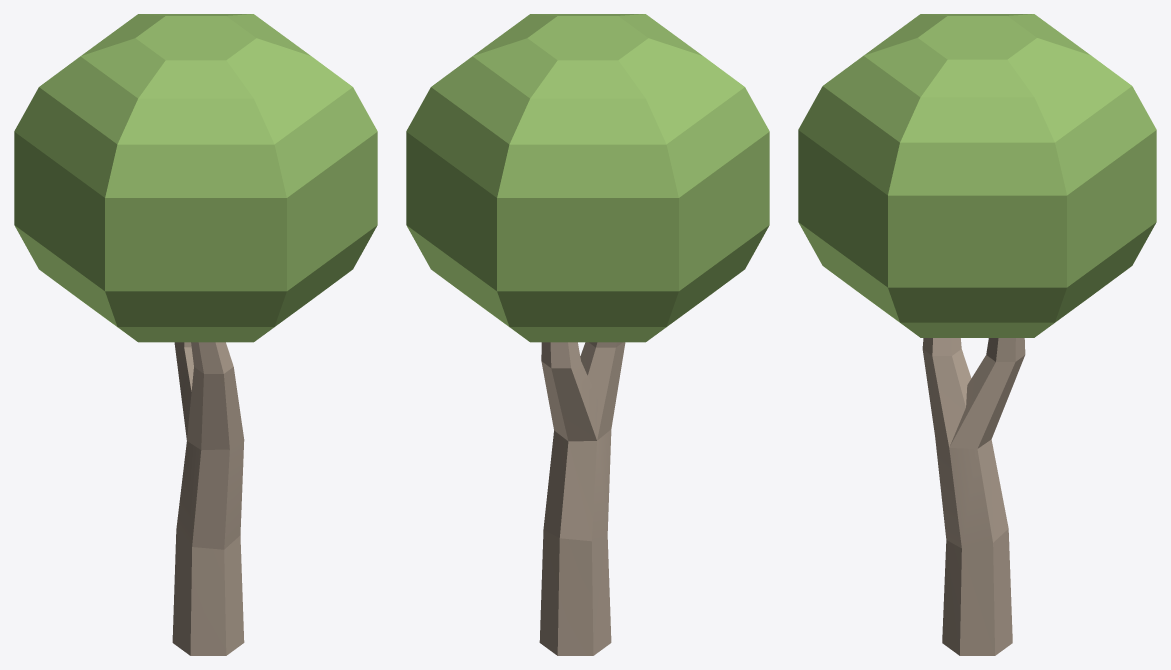
File: Prop_Tree_Oak_2.glb
The picture shows the model from 3 angles, left to right: view 1: azimuth 30°, elevation 25°; view 2: azimuth 150°, elevation 25°; view 3: azimuth 270°, elevation 25°; orthographic projection.
Visible parts, largest first — view 1: object2, object1; view 2: object2, object1; view 3: object2, object1.
Boxes of the visible parts, left/top/right/bottom form: object2: left=14, top=14, right=377, bottom=342; object1: left=172, top=342, right=244, bottom=655; object2: left=406, top=14, right=769, bottom=342; object1: left=539, top=342, right=625, bottom=655; object2: left=798, top=14, right=1156, bottom=337; object1: left=922, top=338, right=1025, bottom=655.
Size of what is drawn, in the model's own units: 2.2 by 4.68 by 2.54.
